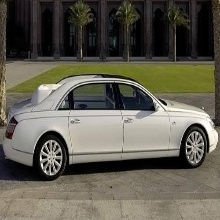no damage: (3, 74, 220, 180)
